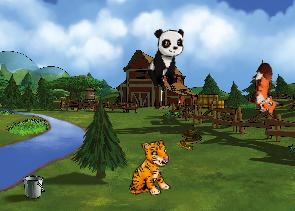fox: (245, 61, 292, 120)
panda: (146, 26, 186, 89)
tiger: (122, 139, 175, 199)
